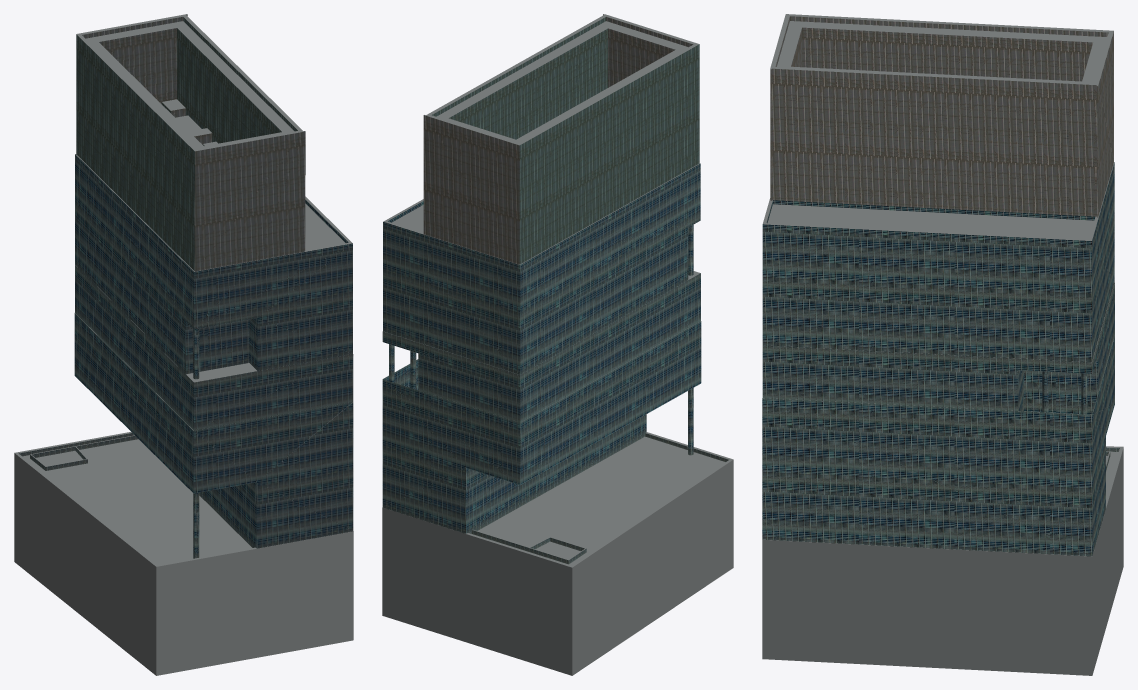
3 views of the same model, side by side, from view 1: azimuth 30°, elevation 25°; view 2: azimuth 150°, elevation 25°; view 3: azimuth 270°, elevation 25° (orthographic). The views are drawn at different scales.
Parts seen in each view (by area): view 1: ONE GEORGE STREET; view 2: ONE GEORGE STREET; view 3: ONE GEORGE STREET.
Part boxes in pixels (x1=…): ONE GEORGE STREET: x1=14, y1=14, x2=353, y2=675; ONE GEORGE STREET: x1=382, y1=14, x2=733, y2=675; ONE GEORGE STREET: x1=762, y1=14, x2=1123, y2=675.
Size of the model in its own units: 62.94 by 144 by 83.35.
3 materials, 2 textured.
